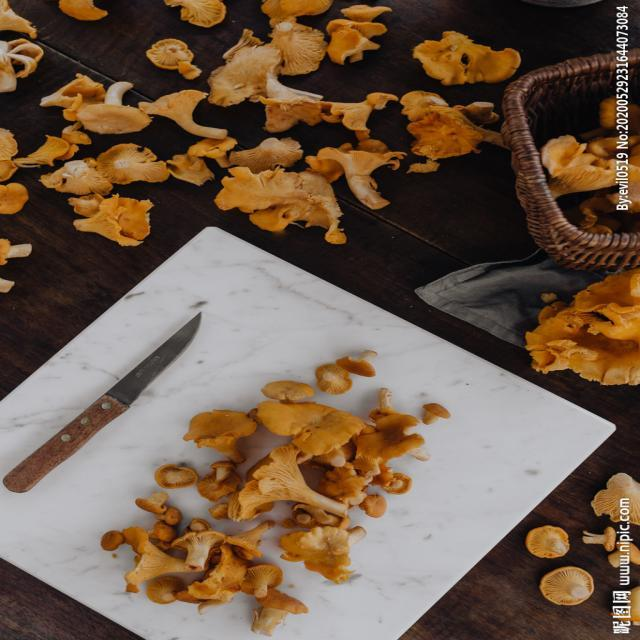Cantharellus cibarius: (0, 0, 518, 246), (120, 355, 446, 630), (532, 267, 640, 385), (531, 516, 576, 563), (549, 569, 598, 608)
